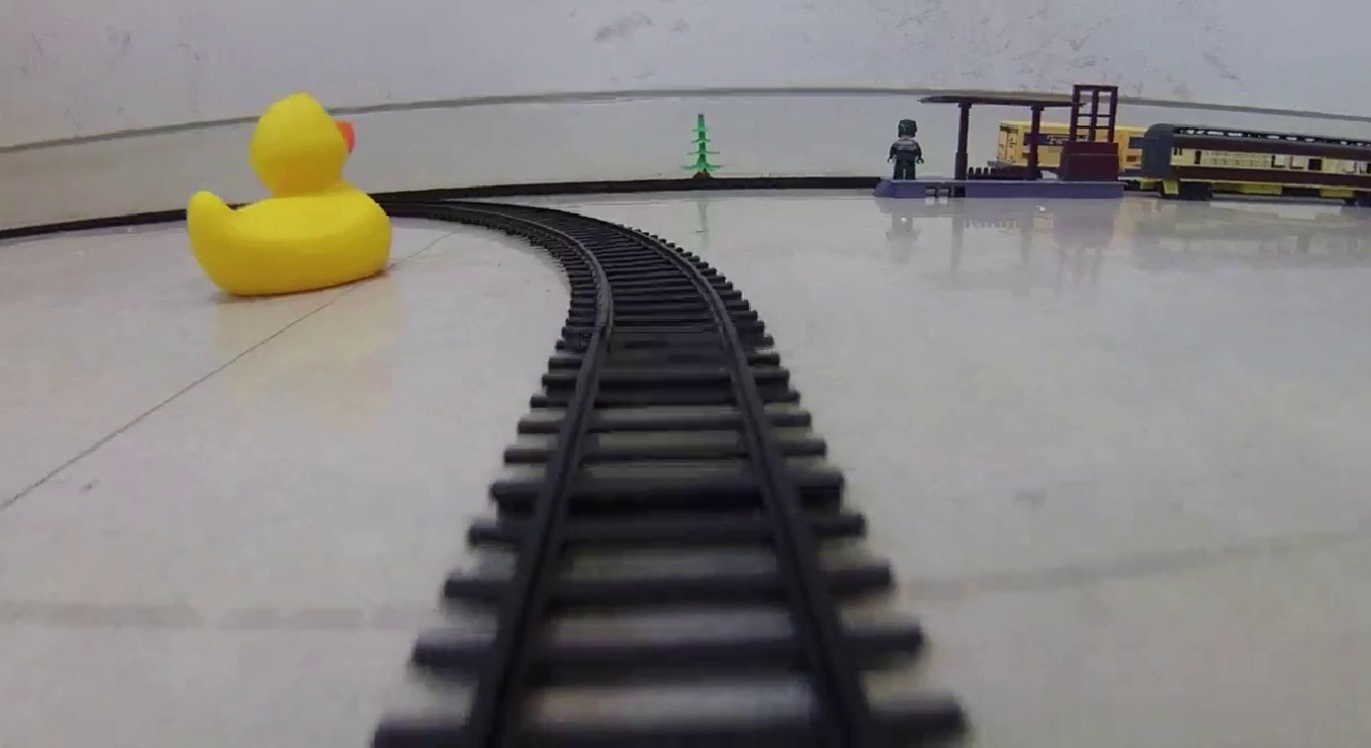people: (888, 117, 925, 182)
tree: (680, 111, 726, 184)
